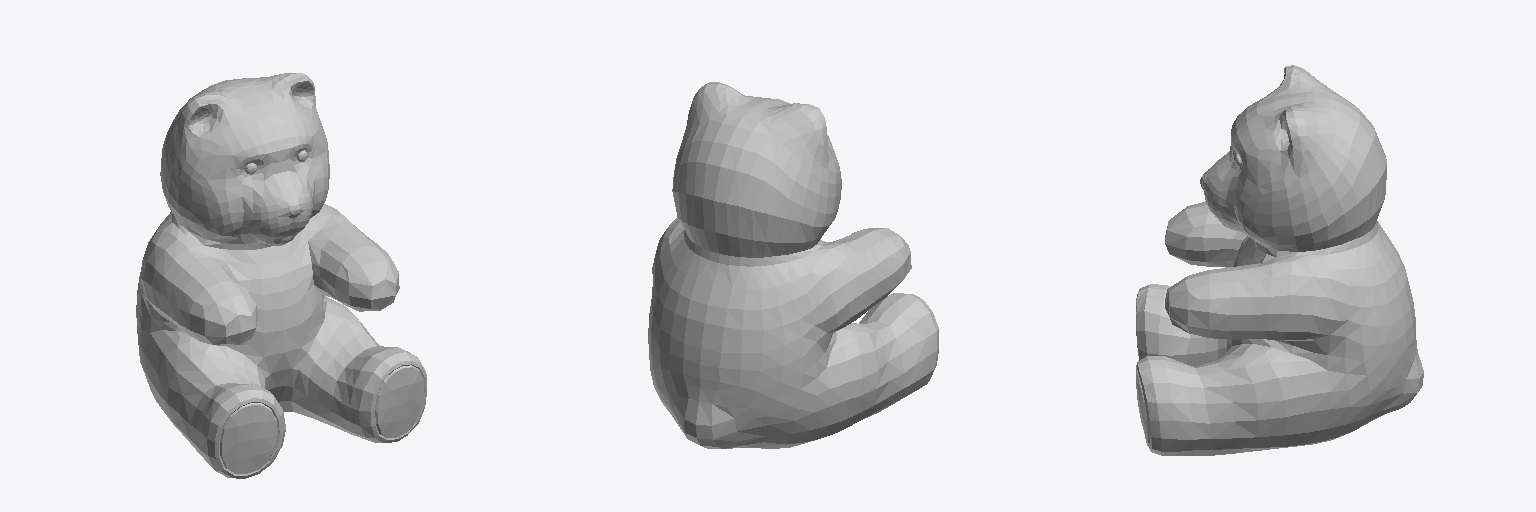
Rendered from Bear.obj.
The picture shows the model from 3 angles: view 1: azimuth 30°, elevation 25°; view 2: azimuth 150°, elevation 25°; view 3: azimuth 270°, elevation 25°; orthographic projection.
Parts seen in each view (by area): view 1: Bear_Plane; view 2: Bear_Plane; view 3: Bear_Plane.
Boxes of the visible parts, box(x1,y1,x2,y2) form: Bear_Plane: box(136, 73, 426, 478); Bear_Plane: box(648, 82, 938, 448); Bear_Plane: box(1136, 65, 1423, 455).
Size of the model in its own units: 0.715 by 1.04 by 0.8185.